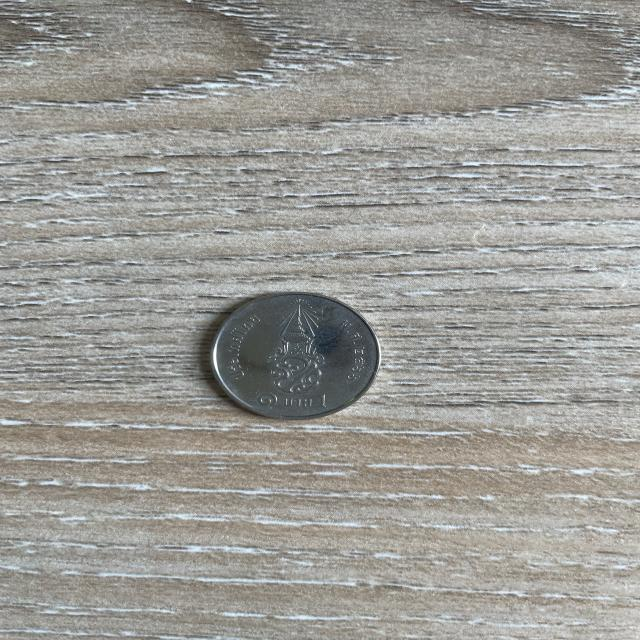1 Bath: (182, 282, 399, 436)
